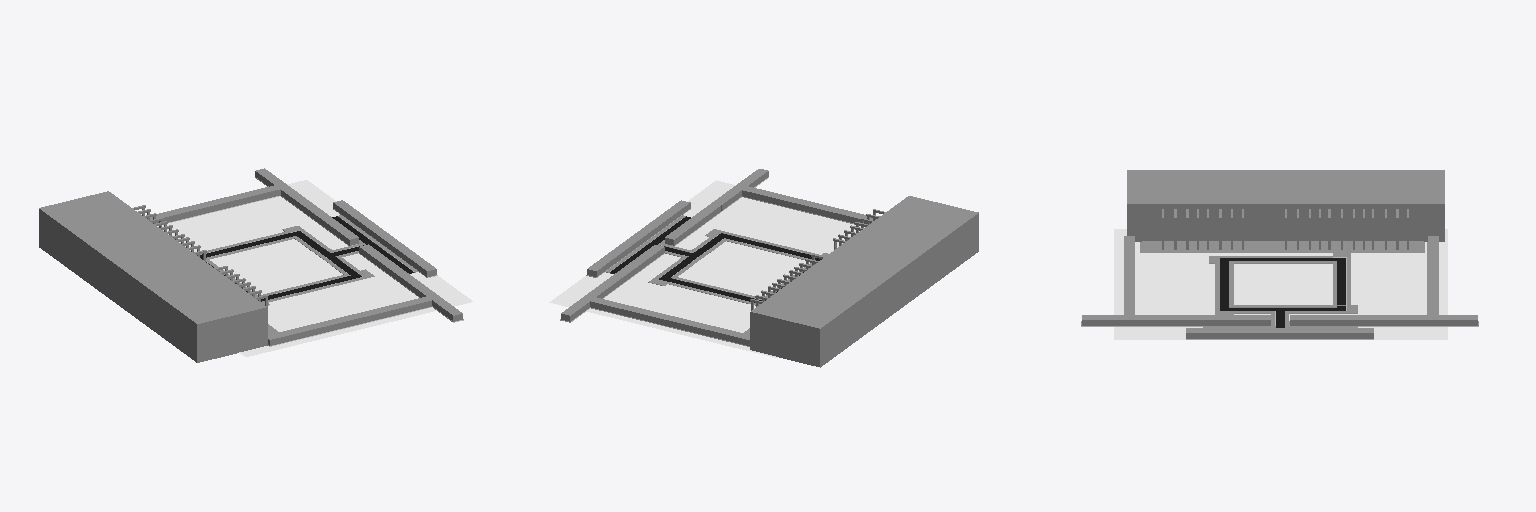
Rendered from Mapa.obj.
3 views of the same model, side by side, from view 1: azimuth 30°, elevation 25°; view 2: azimuth 150°, elevation 25°; view 3: azimuth 270°, elevation 25° (orthographic).
Visible parts, largest first — view 1: Cube.041_Cube.054, Plane_Plane.001, Cube.036_Cube.049, Cube.032_Cube.045, Cube.029_Cube.042, Cube.024_Cube.029, Cube.037_Cube.050, Cube.028_Cube.041, Cube.040_Cube.053, Cube.023_Cube.028, Cube.025_Cube.038; view 2: Cube.041_Cube.054, Plane_Plane.001, Cube.036_Cube.049, Cube.029_Cube.042, Cube.033_Cube.046, Cube.023_Cube.028, Cube.040_Cube.053, Cube.037_Cube.050, Cube.025_Cube.038, Cube.024_Cube.029, Cube.028_Cube.041; view 3: Cube.041_Cube.054, Plane_Plane.001, Cube.012_Cube.014, Cube.023_Cube.028, Cube.040_Cube.053, Cube.037_Cube.050, Cube.028_Cube.041, Cube.025_Cube.038, Cube.024_Cube.029.
Part boxes in pixels (left/top/right/bottom): Cube.041_Cube.054: left=39, top=191, right=267, bottom=362; Plane_Plane.001: left=157, top=180, right=472, bottom=356; Cube.036_Cube.049: left=194, top=185, right=280, bottom=214; Cube.032_Cube.045: left=268, top=316, right=350, bottom=345; Cube.029_Cube.042: left=346, top=296, right=431, bottom=325; Cube.024_Cube.029: left=302, top=203, right=358, bottom=245; Cube.037_Cube.050: left=380, top=235, right=436, bottom=276; Cube.028_Cube.041: left=406, top=279, right=462, bottom=321; Cube.040_Cube.053: left=333, top=200, right=389, bottom=241; Cube.023_Cube.028: left=359, top=244, right=414, bottom=286; Cube.025_Cube.038: left=255, top=168, right=311, bottom=210; Cube.041_Cube.054: left=750, top=196, right=978, bottom=367; Plane_Plane.001: left=549, top=180, right=864, bottom=357; Cube.036_Cube.049: left=590, top=297, right=676, bottom=326; Cube.029_Cube.042: left=742, top=186, right=827, bottom=215; Cube.033_Cube.046: left=671, top=317, right=749, bottom=345; Cube.023_Cube.028: left=665, top=203, right=720, bottom=245; Cube.040_Cube.053: left=587, top=235, right=642, bottom=276; Cube.037_Cube.050: left=634, top=200, right=690, bottom=242; Cube.025_Cube.038: left=561, top=279, right=617, bottom=321; Cube.024_Cube.029: left=609, top=245, right=664, bottom=286; Cube.028_Cube.041: left=712, top=169, right=768, bottom=210; Cube.041_Cube.054: left=1127, top=170, right=1444, bottom=249; Plane_Plane.001: left=1114, top=229, right=1447, bottom=339; Cube.012_Cube.014: left=1140, top=241, right=1424, bottom=265; Cube.023_Cube.028: left=1176, top=315, right=1270, bottom=325; Cube.040_Cube.053: left=1280, top=328, right=1373, bottom=338; Cube.037_Cube.050: left=1186, top=328, right=1279, bottom=338; Cube.028_Cube.041: left=1082, top=315, right=1175, bottom=325; Cube.025_Cube.038: left=1384, top=315, right=1477, bottom=325; Cube.024_Cube.029: left=1290, top=315, right=1383, bottom=325.
Size of the model in its own units: 42.35 by 6.13 by 53.99.